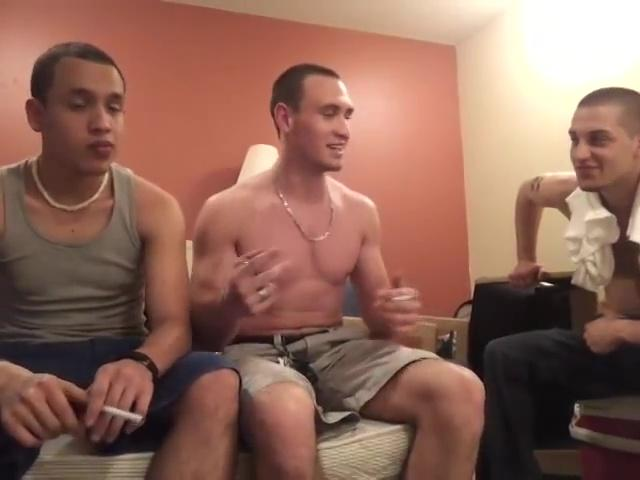cigarette: (101, 404, 146, 426)
